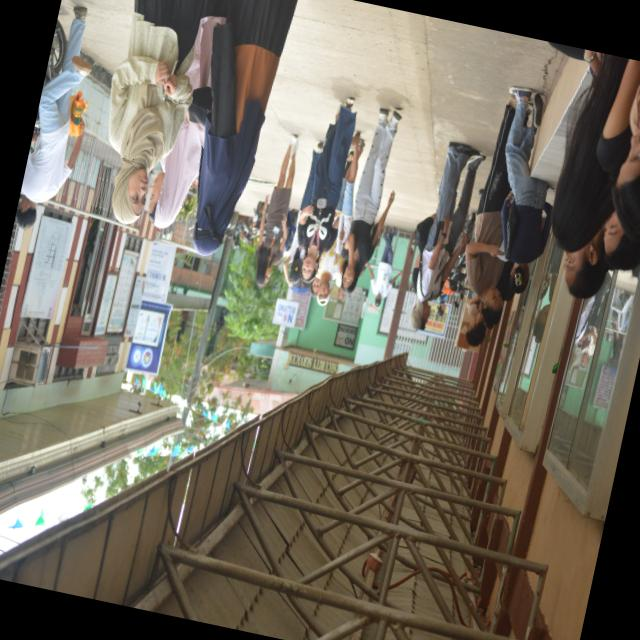person: (189, 0, 296, 254), (108, 0, 205, 223), (16, 6, 90, 227), (551, 43, 628, 250), (410, 141, 478, 328), (465, 94, 516, 326), (341, 108, 401, 293), (297, 97, 355, 281), (501, 86, 550, 292), (315, 132, 364, 305), (427, 154, 484, 300), (255, 133, 298, 286), (148, 117, 203, 227), (612, 85, 639, 240), (563, 225, 608, 297), (367, 228, 400, 306), (603, 211, 639, 269), (300, 141, 322, 204)
